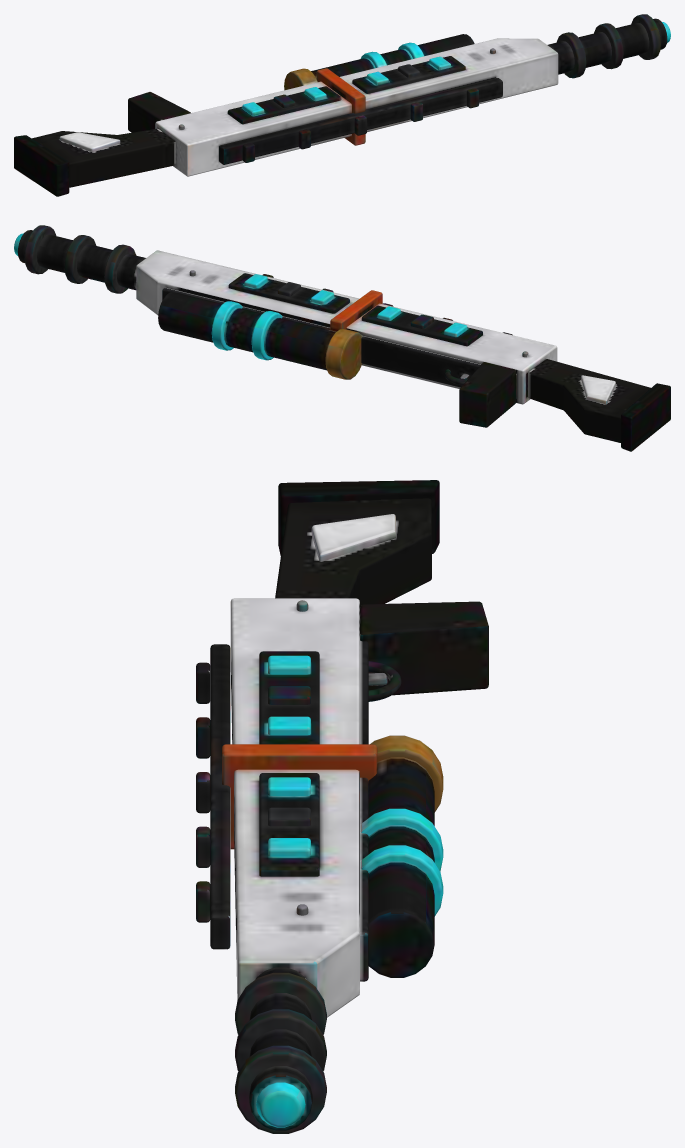
File: laser_rifle.glb
3 renders of one model, top to bottom at view 1: azimuth 30°, elevation 25°; view 2: azimuth 150°, elevation 25°; view 3: azimuth 270°, elevation 25°, orthographic. The views are drawn at different scales.
Visible parts, largest first — view 1: laser_rifle; view 2: laser_rifle; view 3: laser_rifle.
Boxes of the visible parts, x1,y1,x2,y2 form: laser_rifle: (14, 14, 670, 196); laser_rifle: (14, 225, 670, 451); laser_rifle: (196, 480, 488, 1133).
Size of the model in its own units: 0.9869 by 0.074 by 0.2037.
Materials: 1 (1 with a texture image).
